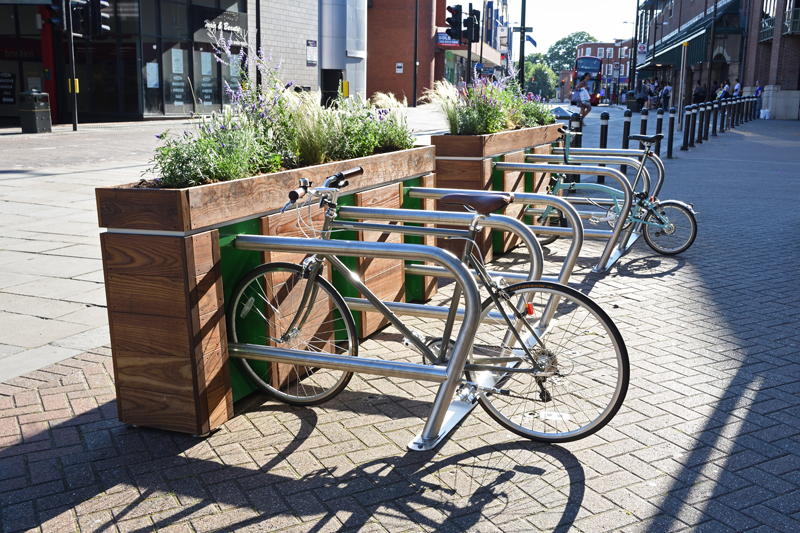Bicycle: (222, 175, 641, 455), (570, 159, 700, 256)
TraficLight: (443, 4, 464, 42)
